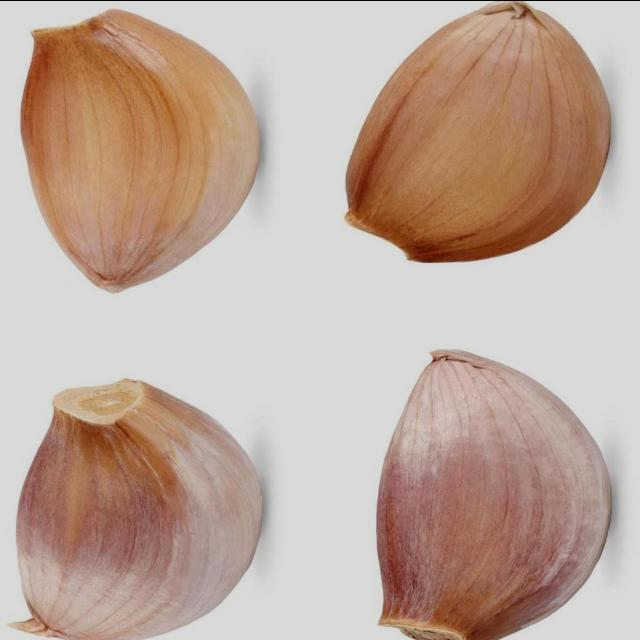garlic: (368, 329, 612, 640), (8, 6, 264, 296), (339, 1, 611, 269), (13, 372, 270, 640)
